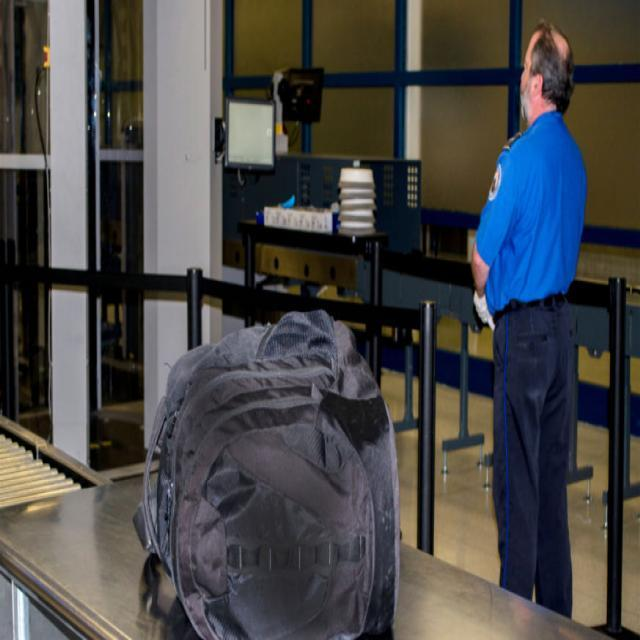Backpacks: (134, 292, 403, 640)
